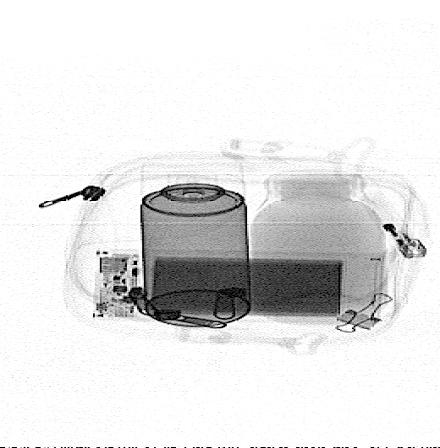Lighter: (354, 190, 428, 258)
Powerbank: (92, 249, 383, 322)
Sprayer: (140, 163, 251, 327)
